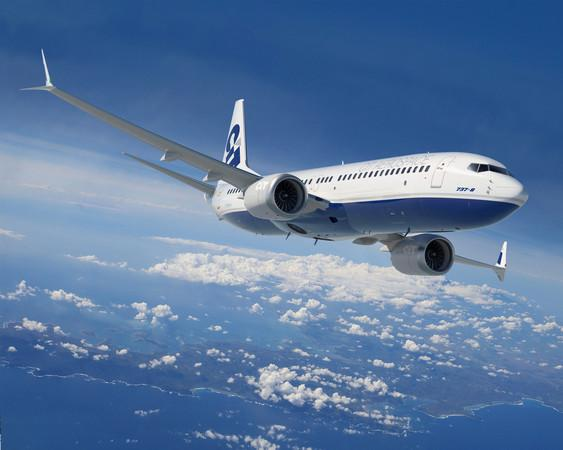airplane: (17, 43, 531, 287)
